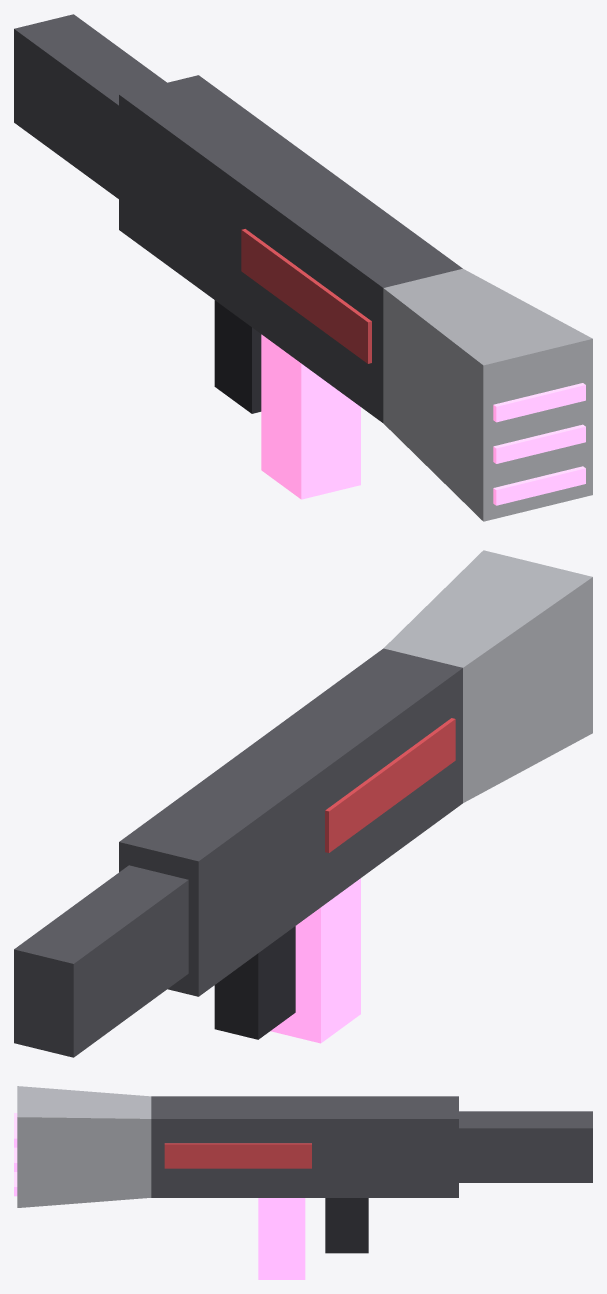
Rendered from weapon_F2_ScatterGun.glb.
The picture shows the model from 3 angles, top to bottom: view 1: azimuth 30°, elevation 25°; view 2: azimuth 150°, elevation 25°; view 3: azimuth 270°, elevation 25°; orthographic projection. The views are drawn at different scales.
Parts seen in each view (by area): view 1: Body, Mag; view 2: Body, Mag; view 3: Body, Mag.
Boxes of the visible parts, box(x1,y1,x2,y2) form: Body: box(14, 14, 592, 521); Mag: box(261, 334, 360, 499); Body: box(14, 550, 592, 1057); Mag: box(270, 878, 360, 1043); Body: box(14, 1086, 592, 1253); Mag: box(258, 1198, 305, 1279).
Size of the model in its own units: 0.11 by 0.28 by 0.865.
